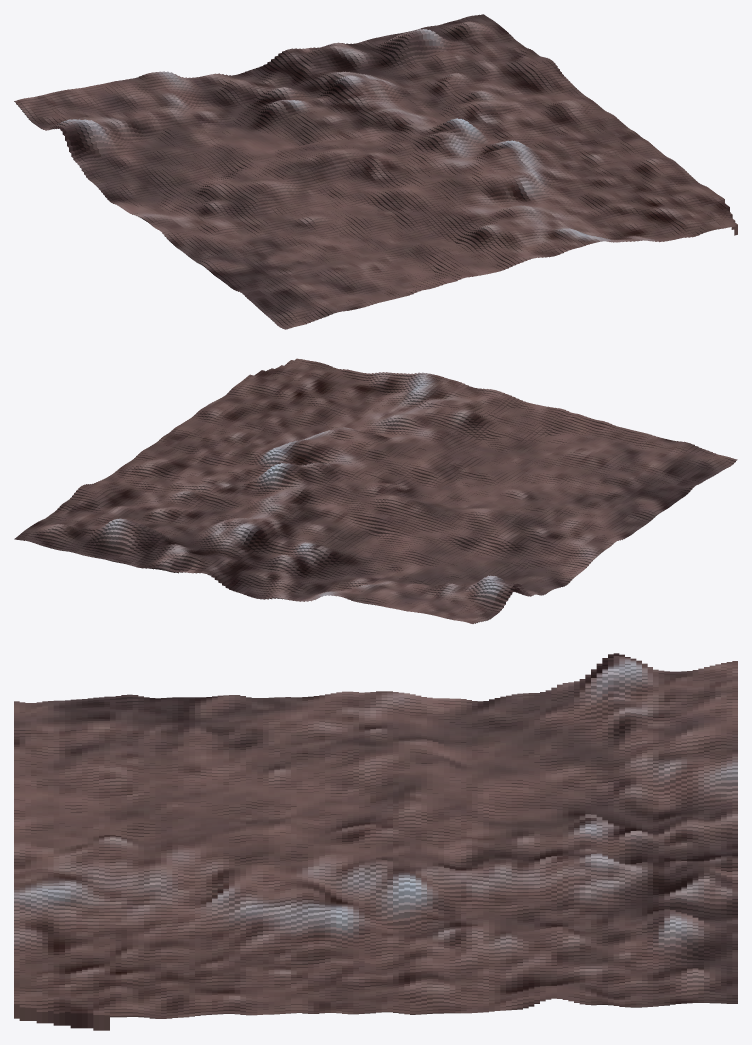
The model's file is chunk-28.glb.
3 renders of one model, top to bottom at view 1: azimuth 30°, elevation 25°; view 2: azimuth 150°, elevation 25°; view 3: azimuth 270°, elevation 25°, orthographic. The views are drawn at different scales.
Parts seen in each view (by area): view 1: Mesh_0.044; view 2: Mesh_0.044; view 3: Mesh_0.044.
Boxes of the visible parts, x1,y1,x2,y2 form: Mesh_0.044: [14, 14, 737, 329]; Mesh_0.044: [14, 358, 737, 623]; Mesh_0.044: [14, 653, 737, 1030].
Size of the model in its own units: 32000 by 3546 by 32000.
